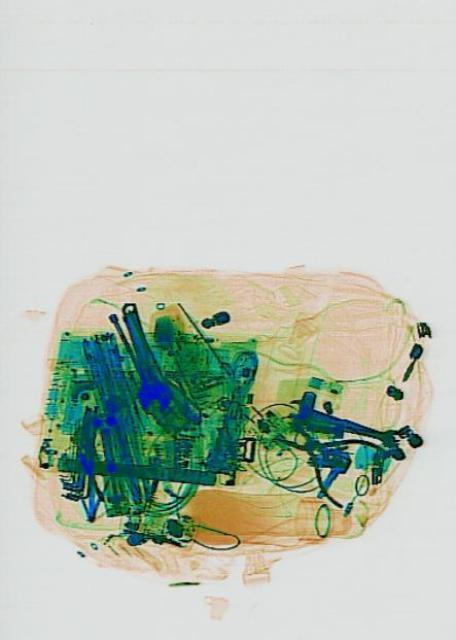Wrench: (111, 294, 172, 418), (285, 398, 400, 447)
